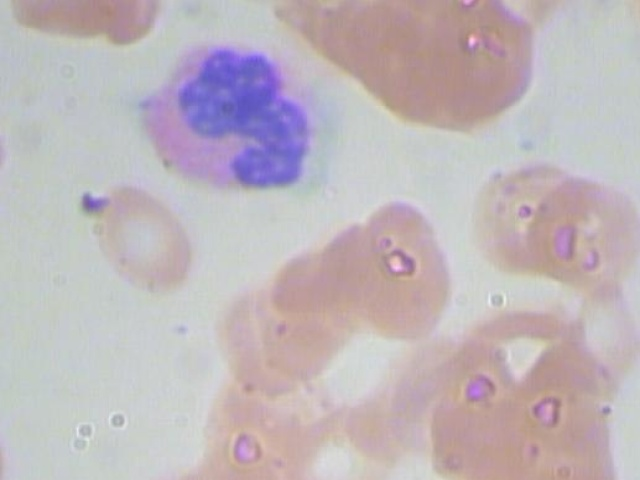RBC: (400, 349, 544, 480), (402, 0, 546, 127), (453, 152, 590, 278), (72, 180, 208, 306), (344, 190, 459, 339), (516, 167, 640, 293), (188, 374, 325, 480), (240, 249, 329, 398), (204, 254, 293, 403), (310, 198, 399, 346), (271, 228, 359, 376), (548, 269, 640, 395), (53, 0, 173, 61), (336, 0, 483, 13), (214, 0, 331, 10), (627, 0, 640, 65)
WBC: (128, 33, 317, 208)
